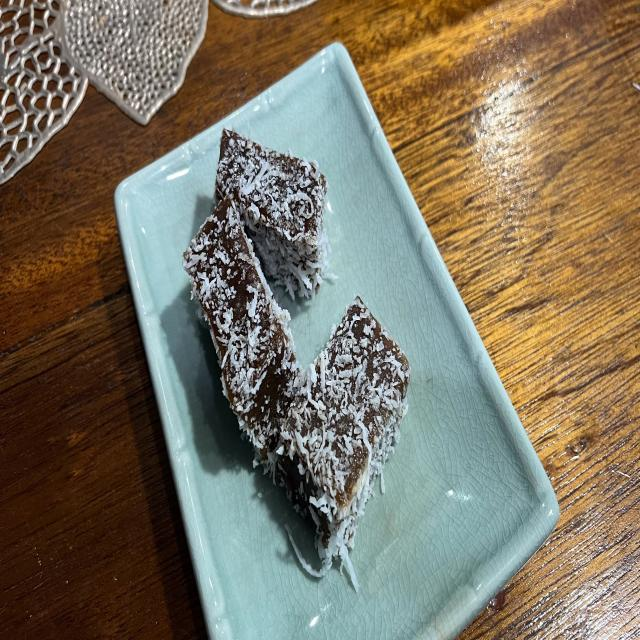kaswi: (278, 298, 410, 591), (182, 198, 301, 471), (215, 129, 329, 298)
